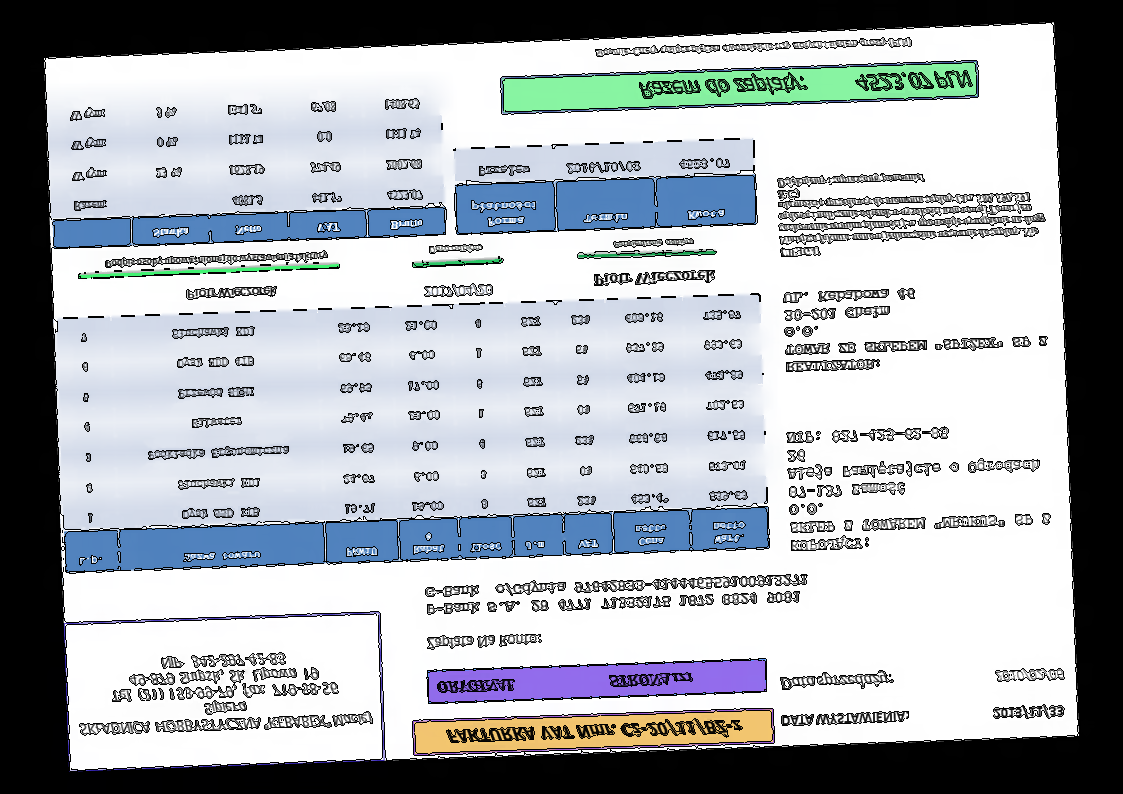Table: (54, 292, 771, 576), (46, 82, 447, 251), (451, 137, 759, 238)
TextBox: (783, 418, 1056, 556), (74, 645, 376, 740), (773, 164, 1051, 262), (781, 279, 1052, 376), (423, 568, 813, 619), (635, 67, 975, 104), (444, 714, 748, 750), (591, 35, 914, 61), (434, 670, 695, 699), (102, 248, 329, 272), (777, 668, 898, 696), (779, 708, 911, 730), (424, 630, 546, 653), (591, 268, 717, 289), (182, 283, 282, 303), (990, 702, 1068, 722), (421, 280, 494, 301), (990, 666, 1067, 685), (611, 236, 695, 251), (425, 241, 484, 258)
